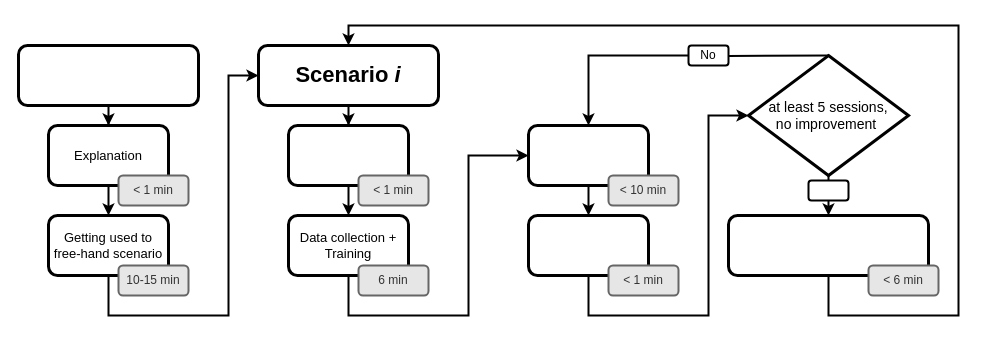
Image size: 985x341. Some labels were removed from this diagram. The shapes that lost their labels are listed below. From the top down, each one's centre as x and y in pixels, then its label:
(108,75): Introduction
(348,155): Introduction to scenario
(588,155): Word Input session (5 words)
(828,190): Yes
(588,245): Rest
(828,245): Phrase input session (1 phrase) x 3 times
